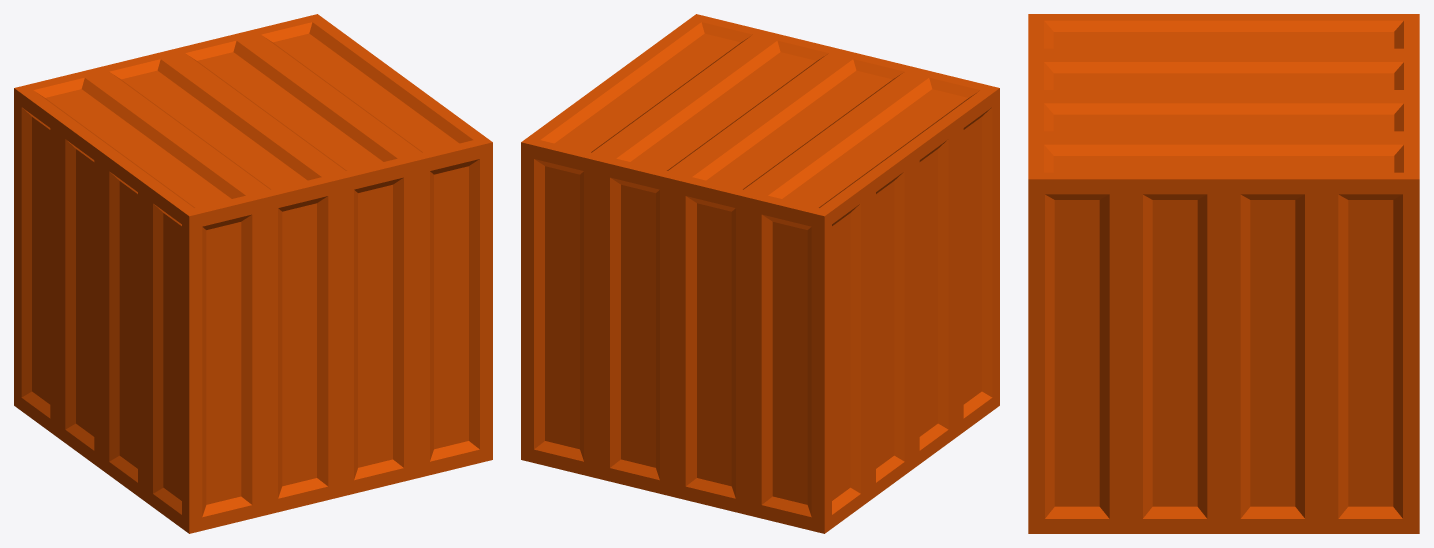
The model's file is коробка.fbx.
3 renders of one model, left to right at view 1: azimuth 30°, elevation 25°; view 2: azimuth 150°, elevation 25°; view 3: azimuth 270°, elevation 25°, orthographic. The views are drawn at different scales.
Visible parts, largest first — view 1: pCube40; view 2: pCube40; view 3: pCube40.
Boxes of the visible parts, <box> form: pCube40: <box>14,14,492,533</box>; pCube40: <box>521,14,999,533</box>; pCube40: <box>1028,14,1419,533</box>.
Bounding box in the file's own units: 496 × 496 × 496.
